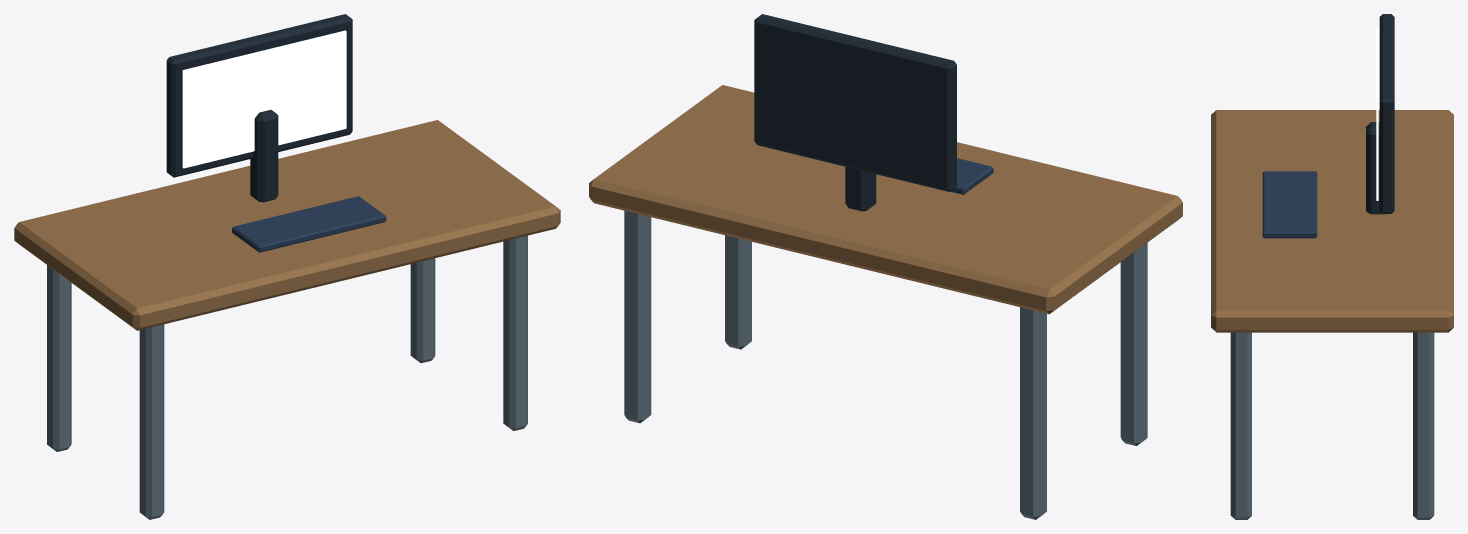
File: objects-desk.lod0.glb
3 views of the same model, side by side, from view 1: azimuth 30°, elevation 25°; view 2: azimuth 150°, elevation 25°; view 3: azimuth 270°, elevation 25° (orthographic). The views are drawn at different scales.
Visible parts, largest first — view 1: objects-desk__body; view 2: objects-desk__body; view 3: objects-desk__body.
Boxes of the visible parts, <box> form: objects-desk__body: <box>14,14,560,519</box>; objects-desk__body: <box>589,14,1182,519</box>; objects-desk__body: <box>1211,14,1453,519</box>.
Bounding box in the file's own units: 1.6 × 1.36 × 0.8.
